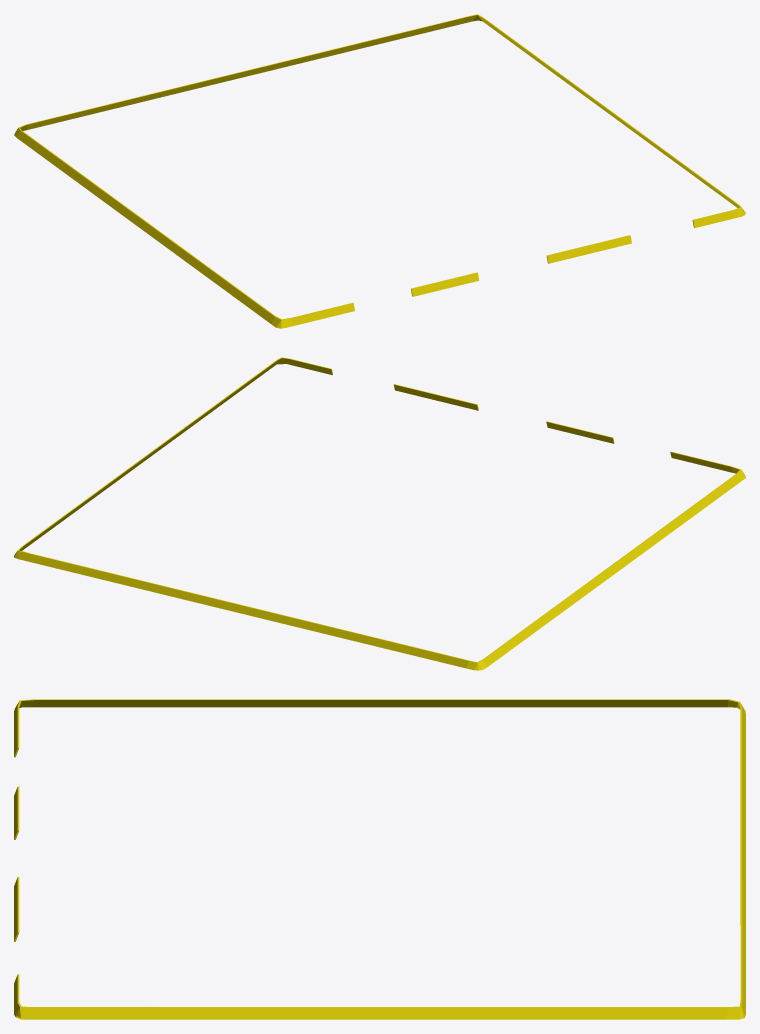
Rendered from Lenta.fbx.
3 renders of one model, top to bottom at view 1: azimuth 30°, elevation 25°; view 2: azimuth 150°, elevation 25°; view 3: azimuth 270°, elevation 25°, orthographic. The views are drawn at different scales.
Parts seen in each view (by area): view 1: Lenta; view 2: Lenta; view 3: Lenta.
Part boxes in pixels (x1=…): Lenta: x1=14, y1=14, x2=745, y2=328; Lenta: x1=14, y1=357, x2=745, y2=670; Lenta: x1=14, y1=699, x2=745, y2=1019.
Size of the model in its own units: 2050 by 28.85 by 2025.
